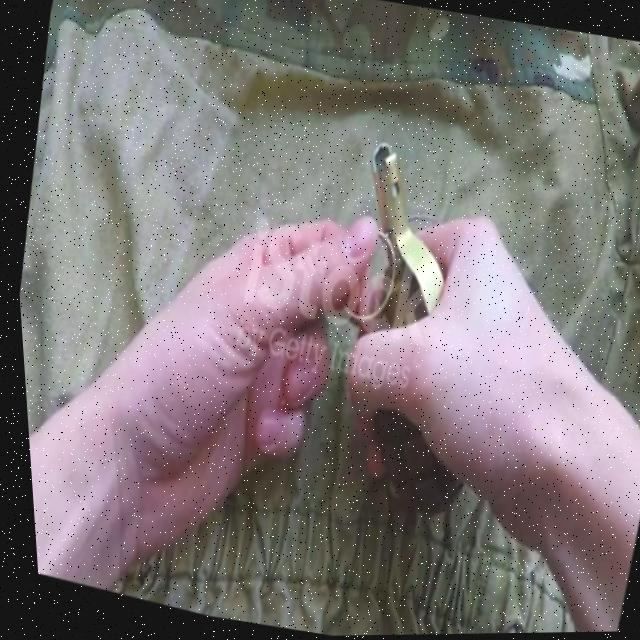grenade: (281, 133, 545, 532)
